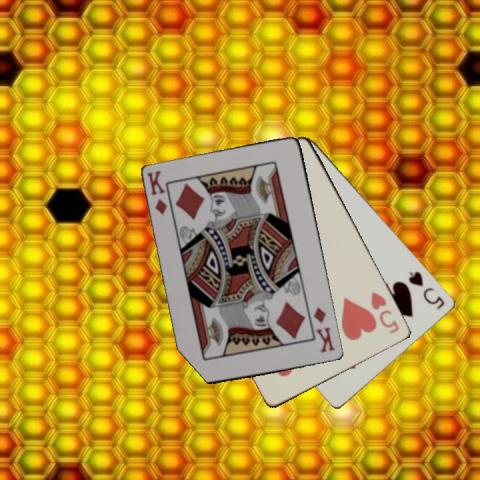5h: (368, 288, 401, 335)
5s: (406, 269, 447, 311)
Kd: (311, 304, 337, 354), (144, 167, 169, 216)
